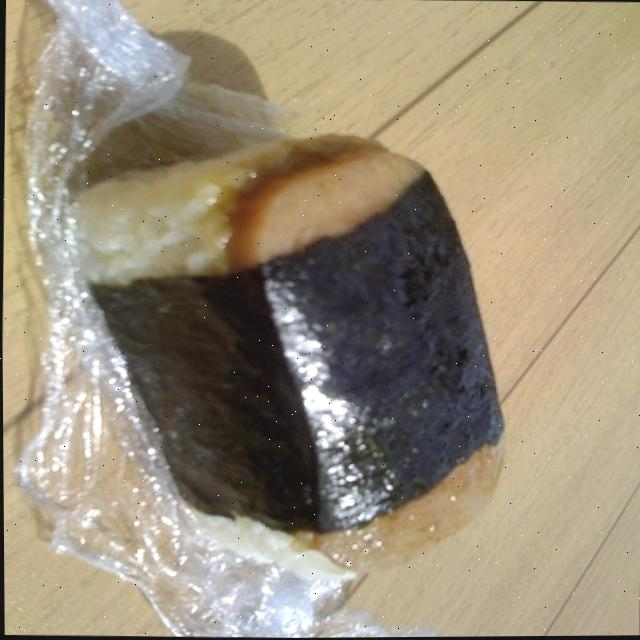寿司卷物: (47, 108, 520, 585)
